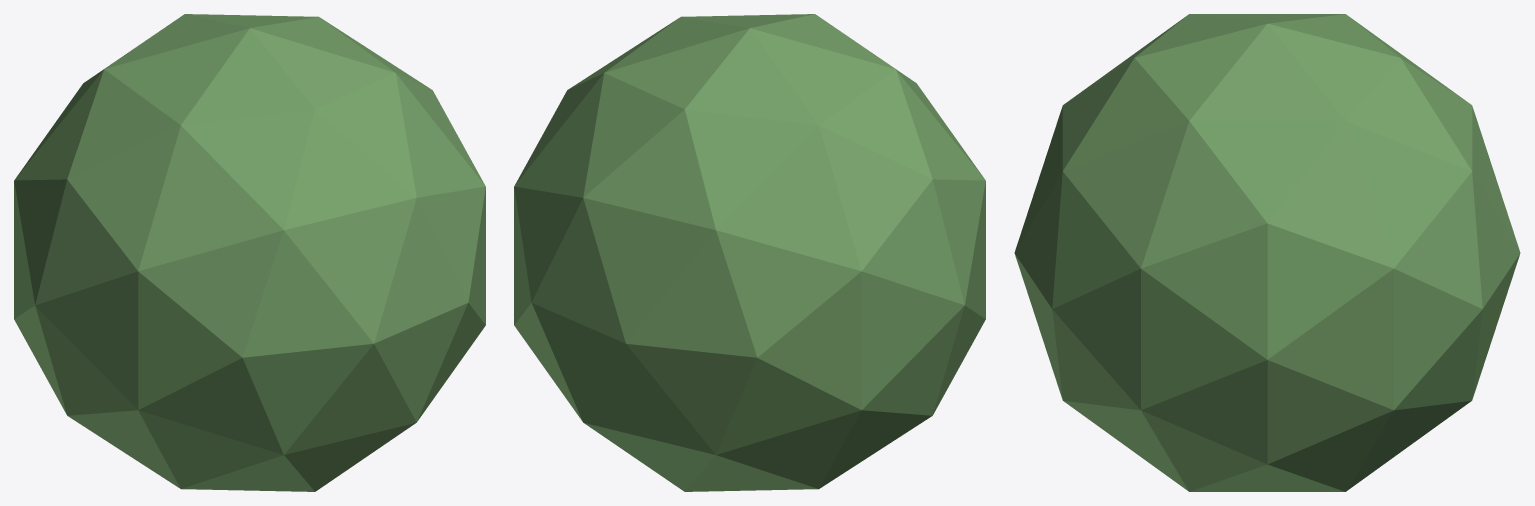
Rendered from slime_v0.glb.
3 views of the same model, side by side, from view 1: azimuth 30°, elevation 25°; view 2: azimuth 150°, elevation 25°; view 3: azimuth 270°, elevation 25° (orthographic).
Visible parts, largest first — view 1: world; view 2: world; view 3: world.
Boxes of the visible parts, x1=… form: world: x1=14, y1=14, x2=485, y2=491; world: x1=514, y1=14, x2=985, y2=491; world: x1=1014, y1=14, x2=1520, y2=491.
Bounding box in the file's own units: 1 × 1 × 1.
